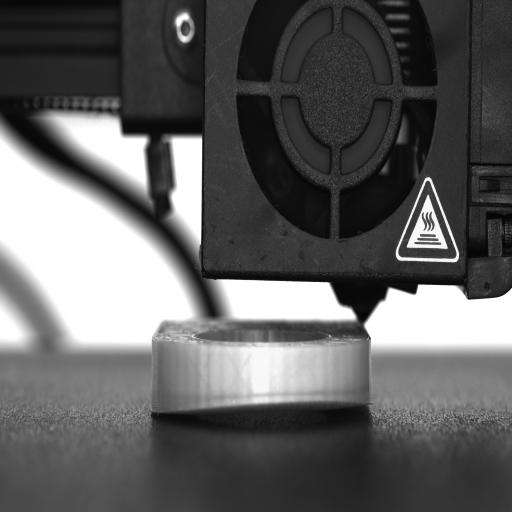warp: (159, 390, 368, 427)
